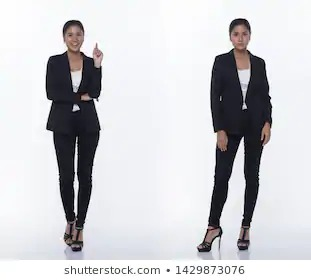F_W_suit jacket: (211, 48, 274, 140), (44, 49, 105, 137)
S_W_pants: (206, 123, 266, 232), (49, 124, 101, 234)
